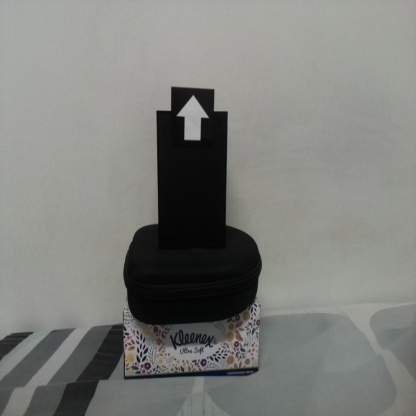id_1: (171, 87, 215, 153)
